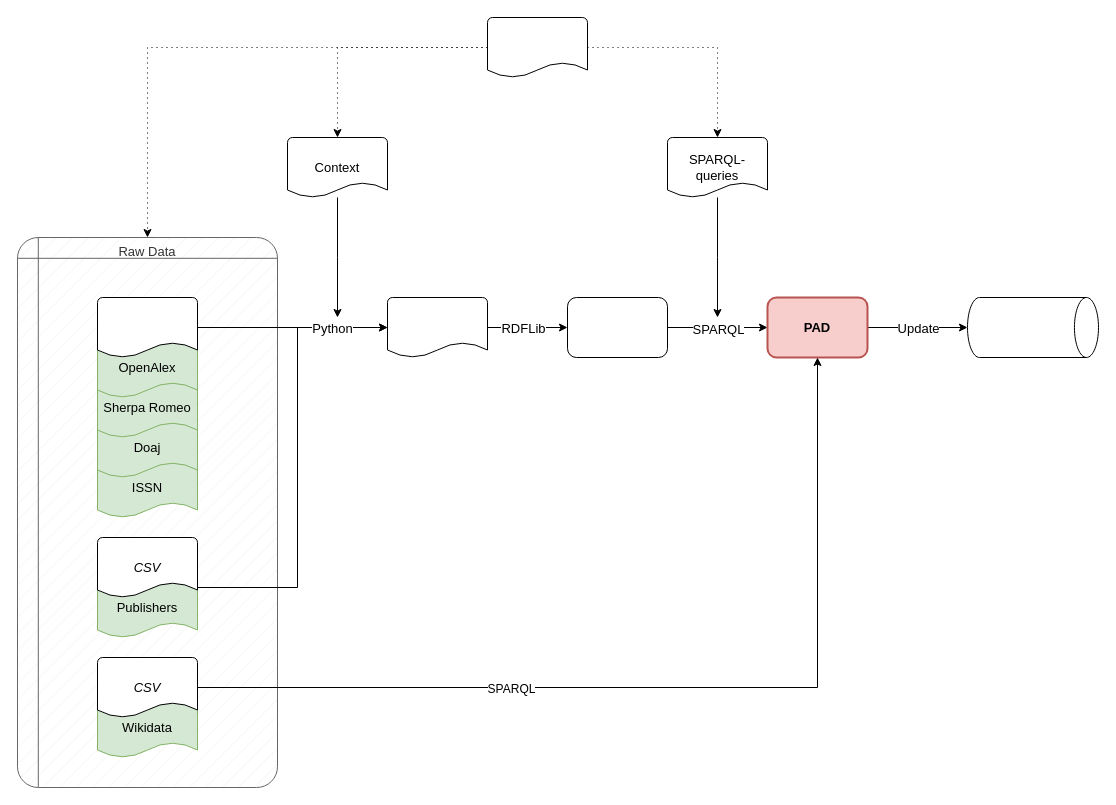
The diagram is 1116 pixels wide and 805 high, and some of its shapes have lost their labels. The shapes that lost their labels are listed below. From the top down, each one's centre as x and y in pixels, then its label:
[537,47]: Config- file
[147,327]: JSON
[437,327]: JSON-LD
[617,327]: Graph
[1032,327]: SPARQL- endpoint
